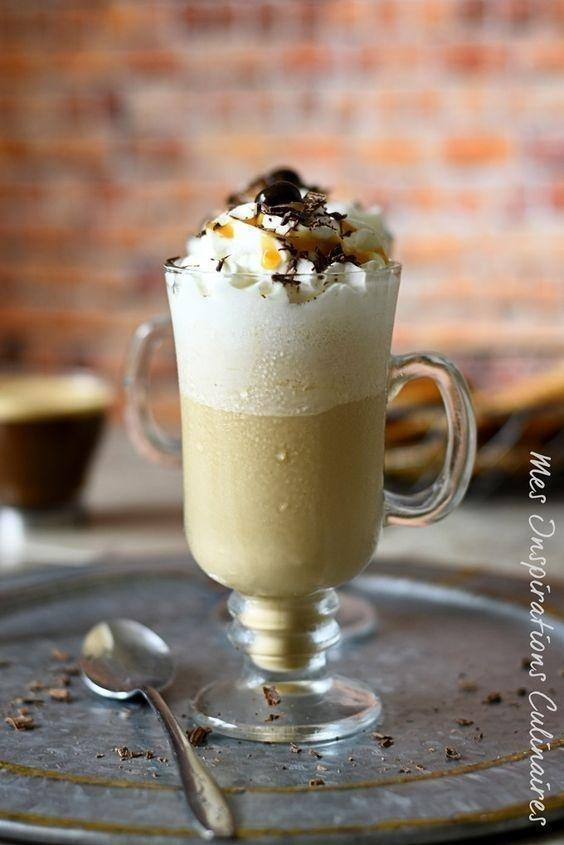glass-mug: (129, 244, 483, 748)
